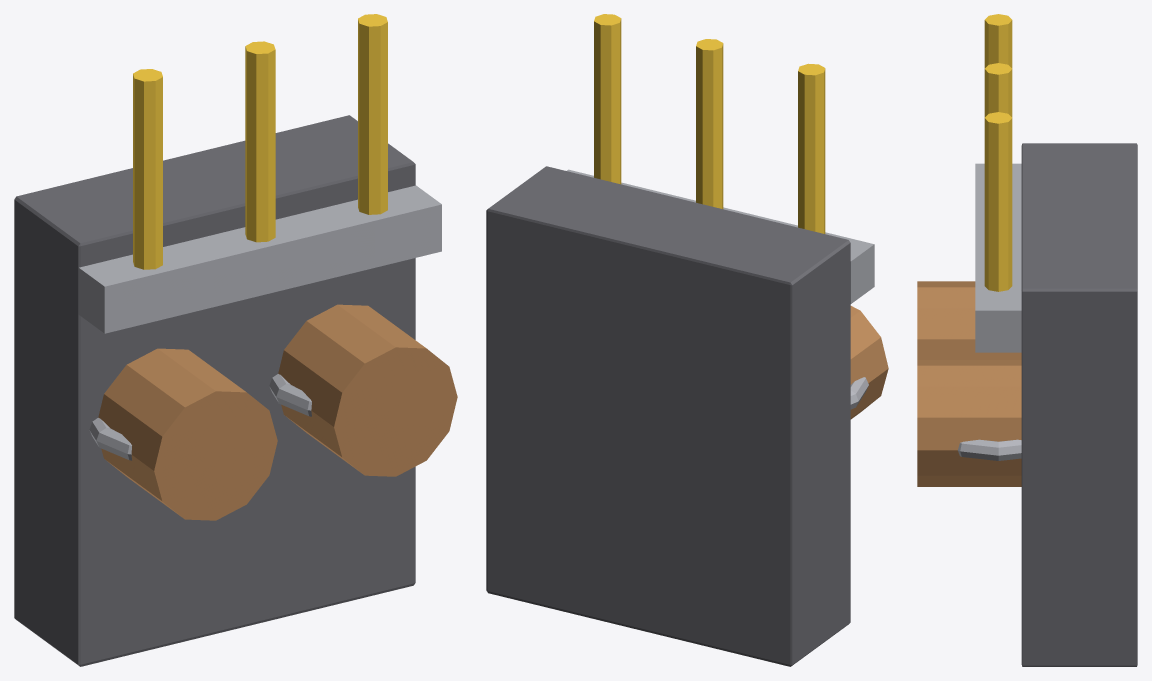
The model's file is war-rack.glb.
3 renders of one model, left to right at view 1: azimuth 30°, elevation 25°; view 2: azimuth 150°, elevation 25°; view 3: azimuth 270°, elevation 25°, orthographic. The views are drawn at different scales.
Visible parts, largest first — view 1: frame, rackbar, drum0.08, drum-0.08, spike1, spike2, spike0, drumband0.08, drumband-0.08; view 2: frame, spike2, spike1, spike0, drum-0.08, rackbar; view 3: frame, drum0.08, rackbar, spike2, drum-0.08, spike0, spike1, drumband0.08.
Part boxes in pixels (x1,y1,x2,y2): frame: (14, 115, 415, 666); rackbar: (78, 185, 441, 333); drum0.08: (278, 304, 457, 476); drum-0.08: (98, 348, 277, 520); spike1: (245, 41, 275, 242); spike2: (358, 14, 387, 214); spike0: (133, 69, 162, 269); drumband0.08: (269, 374, 311, 416); drumband-0.08: (89, 417, 131, 460); frame: (486, 166, 850, 666); spike2: (594, 14, 621, 184); spike1: (696, 39, 723, 208); spike0: (798, 63, 825, 233); drum-0.08: (850, 306, 888, 419); rackbar: (567, 169, 874, 303); frame: (1021, 143, 1137, 666); drum0.08: (917, 360, 1021, 486); rackbar: (975, 163, 1021, 352); spike2: (984, 112, 1012, 291); drum-0.08: (917, 281, 1021, 359); spike0: (984, 14, 1012, 68); spike1: (984, 63, 1012, 117); drumband0.08: (957, 439, 1021, 460).
Size of the model in its own units: 0.3 by 0.5 by 0.19.
